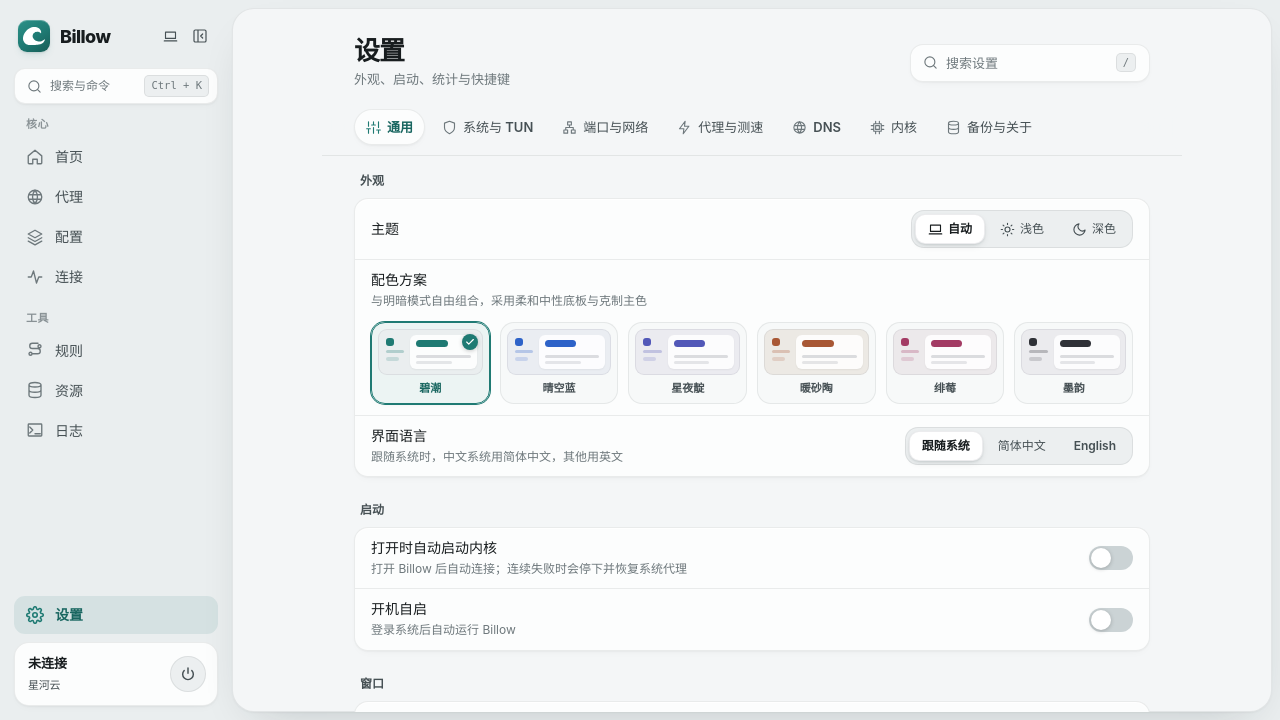
settings page › highlights search matches and shows live status badges on System Proxy / TUN sub-tabs
Type "端口" into the search field with test id "settings-search" showing "/" at {"x": 1027, "y": 63}, box [946, 45, 1108, 81]
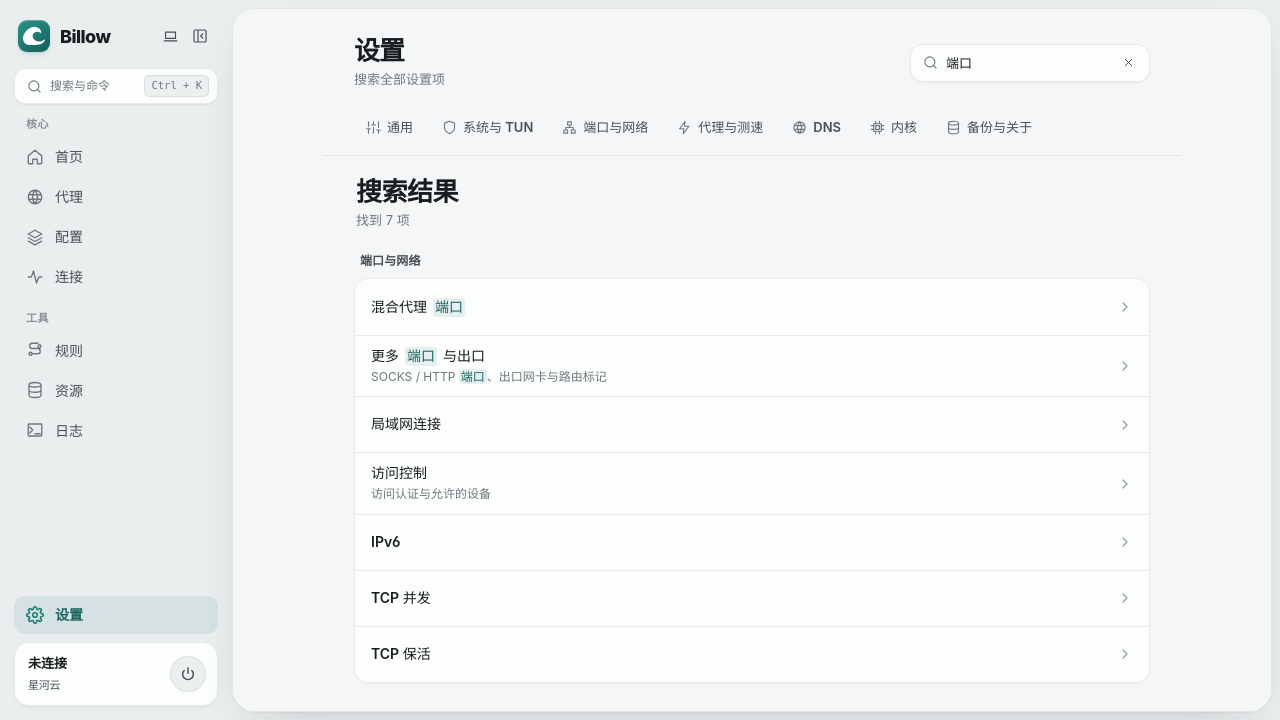
Check: the 1st text "端口" is shown, box [433, 298, 465, 316]
Click the button with test id "clear-settings-search" at {"x": 1128, "y": 63}, box [1117, 52, 1139, 74]
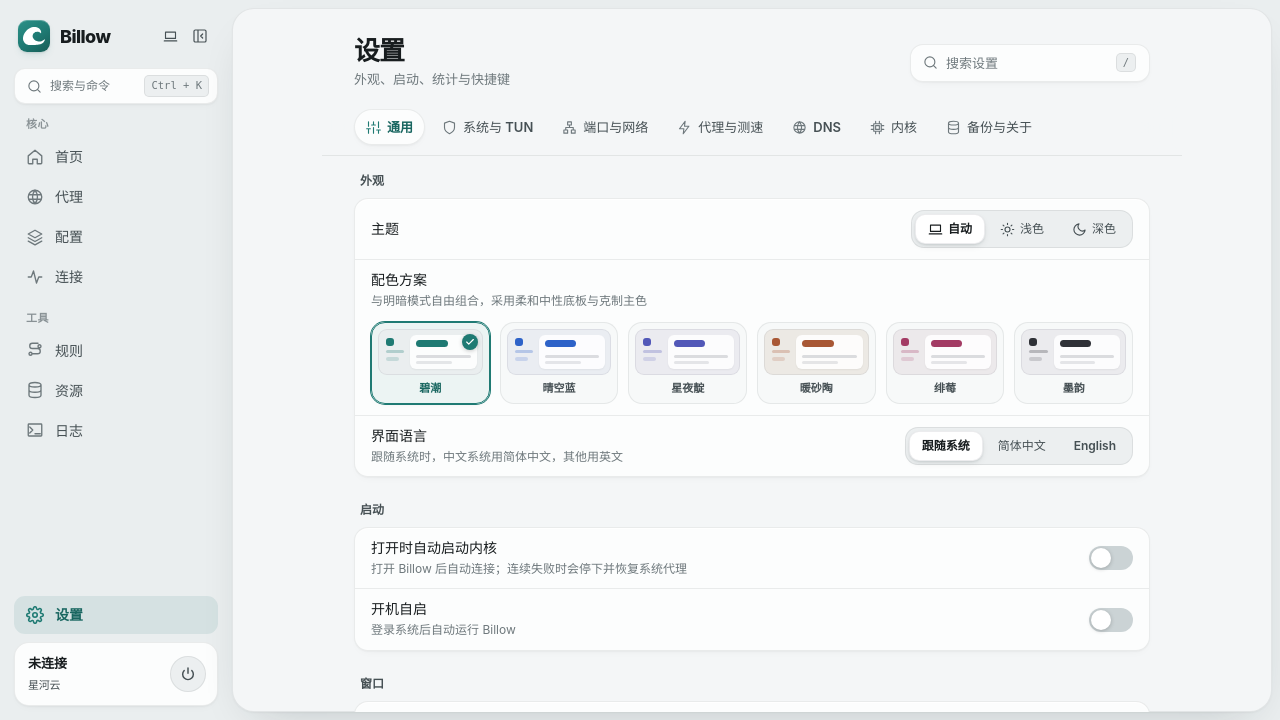
Check: the search field with test id "settings-search" is empty, box [946, 45, 1108, 81]
Click the button "系统与 TUN" at {"x": 488, "y": 127}, box [430, 109, 545, 145]
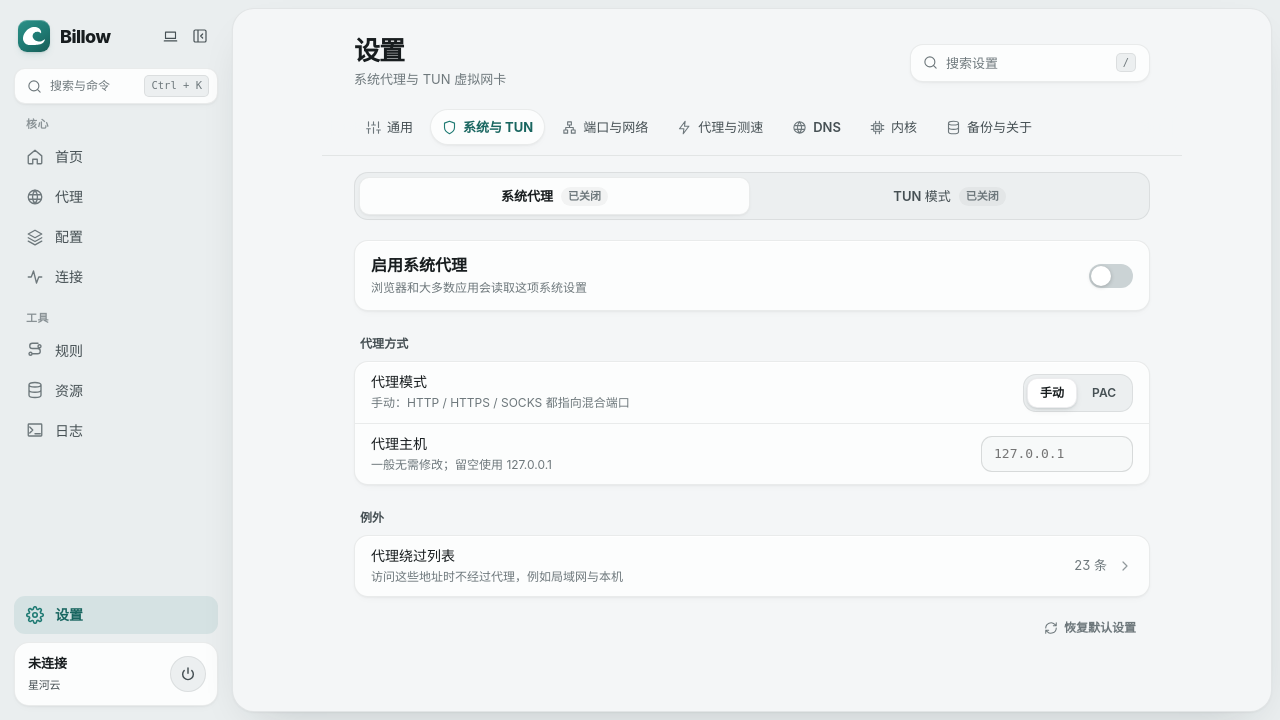
Check: the text with test id "pane-status-proxy" reads "已关闭", box [568, 189, 601, 203]
Check: the text with test id "pane-status-tun" reads "已关闭", box [966, 189, 999, 203]
